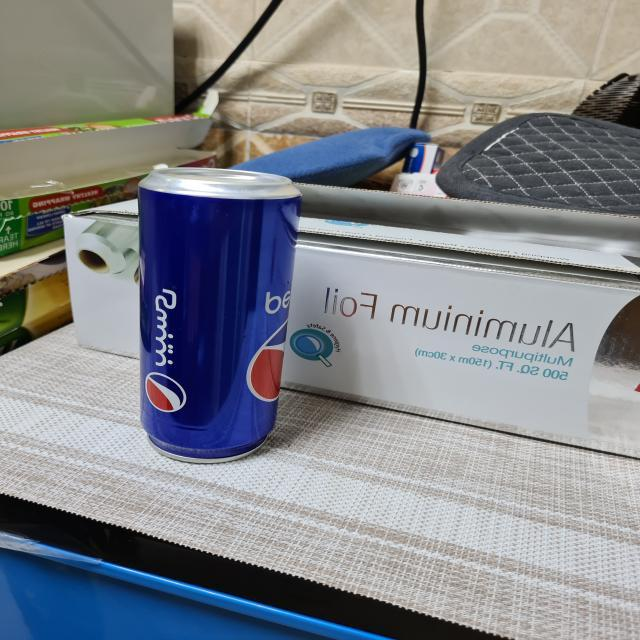can: (132, 167, 307, 466)
